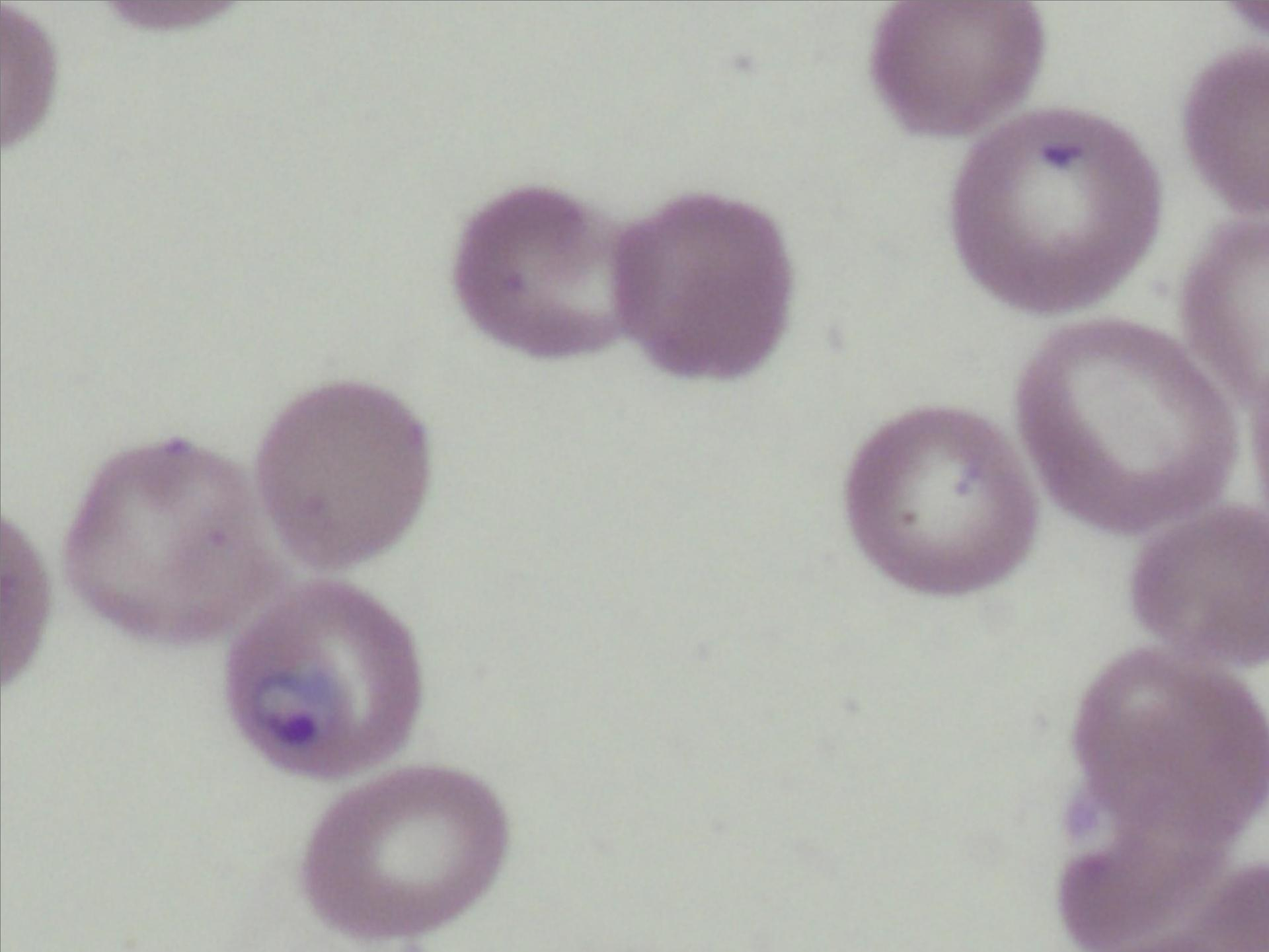Infected: (846, 171, 1048, 365)
Uninfected: (32, 423, 253, 630), (107, 640, 315, 844), (985, 312, 1197, 512), (3, 98, 200, 294), (231, 356, 422, 541), (762, 21, 965, 182), (839, 387, 1014, 568), (482, 577, 648, 753), (648, 598, 814, 764), (0, 290, 134, 439)
